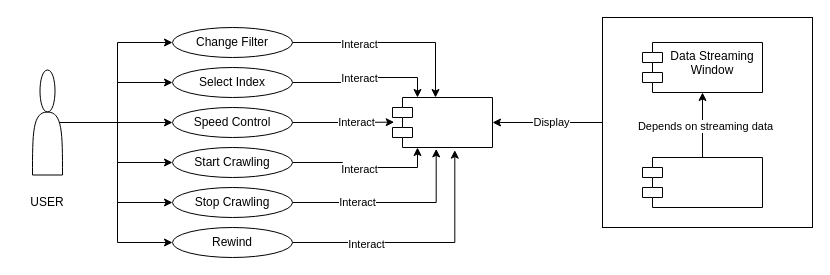
Image size: 830x275. Some labels were removed from this diagram. Each missing label, with the box of its shape:
Summary Boxplot: (642, 156, 762, 208)
UserInterface: (392, 96, 492, 148)
